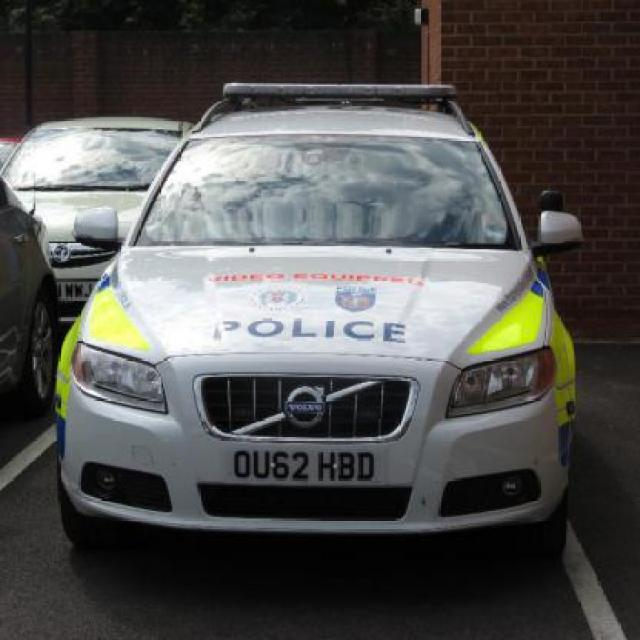License-Plates: (222, 438, 380, 487)
